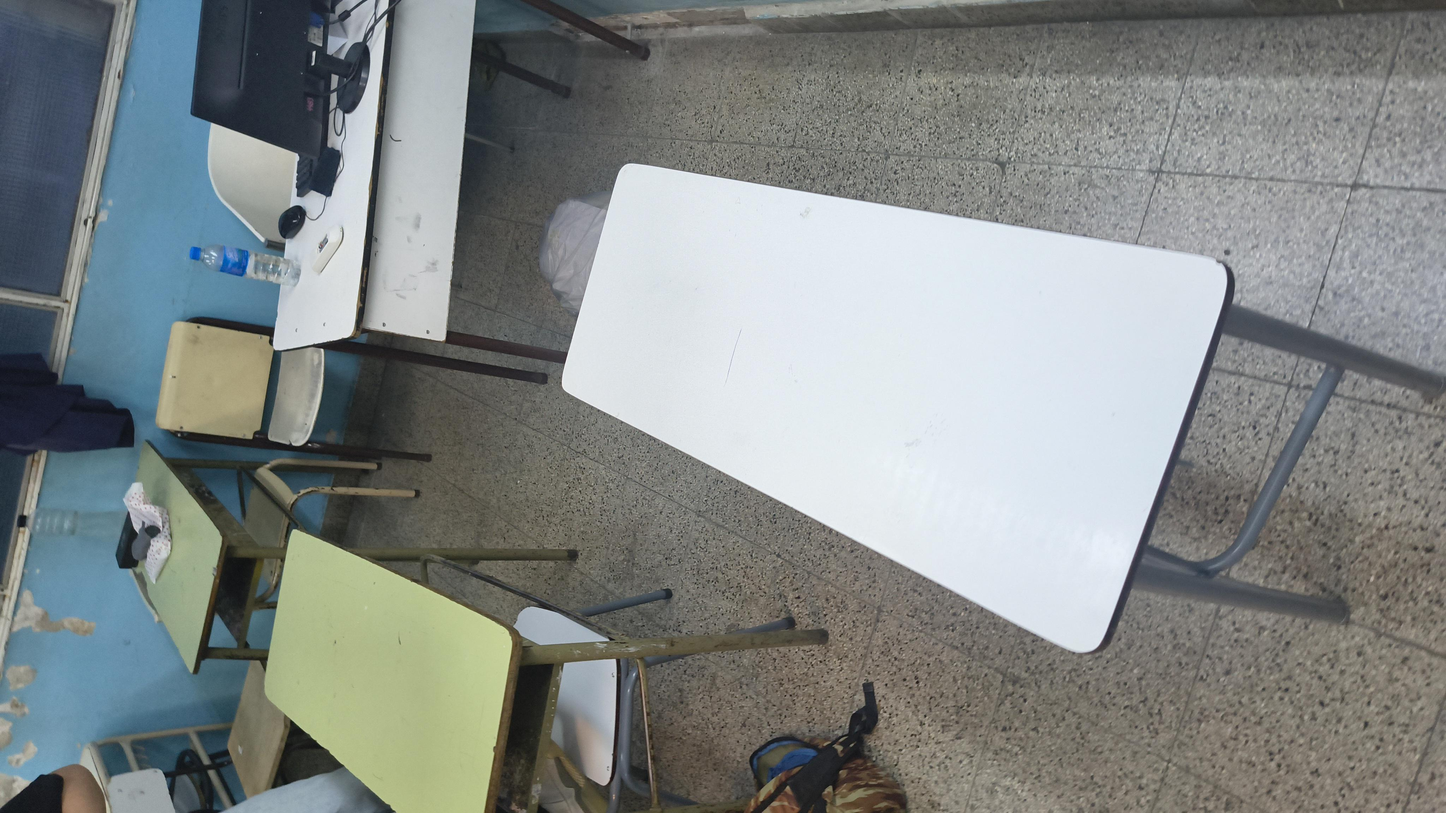Garbage: (872, 290, 1117, 353)
